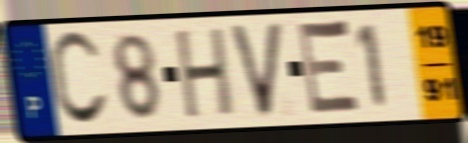1: (353, 21, 391, 110)
8: (107, 31, 164, 122)
C: (46, 27, 111, 130)
E: (296, 17, 365, 119)
H: (174, 24, 236, 123)
V: (226, 19, 287, 122)
